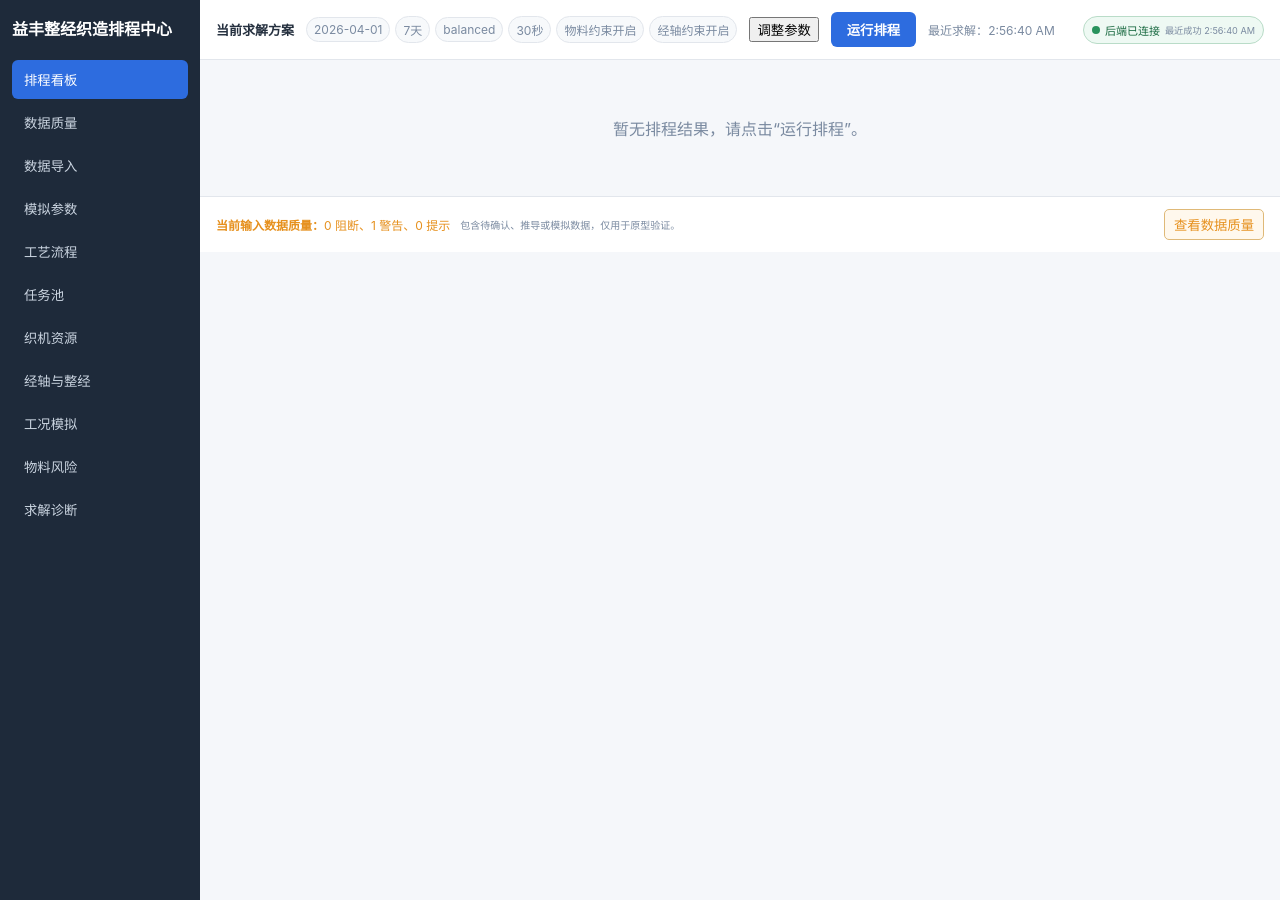
Test: App › 接口错误不展示假结果
Click the button "运行排程" at (873, 30), box [831,12,916,47]
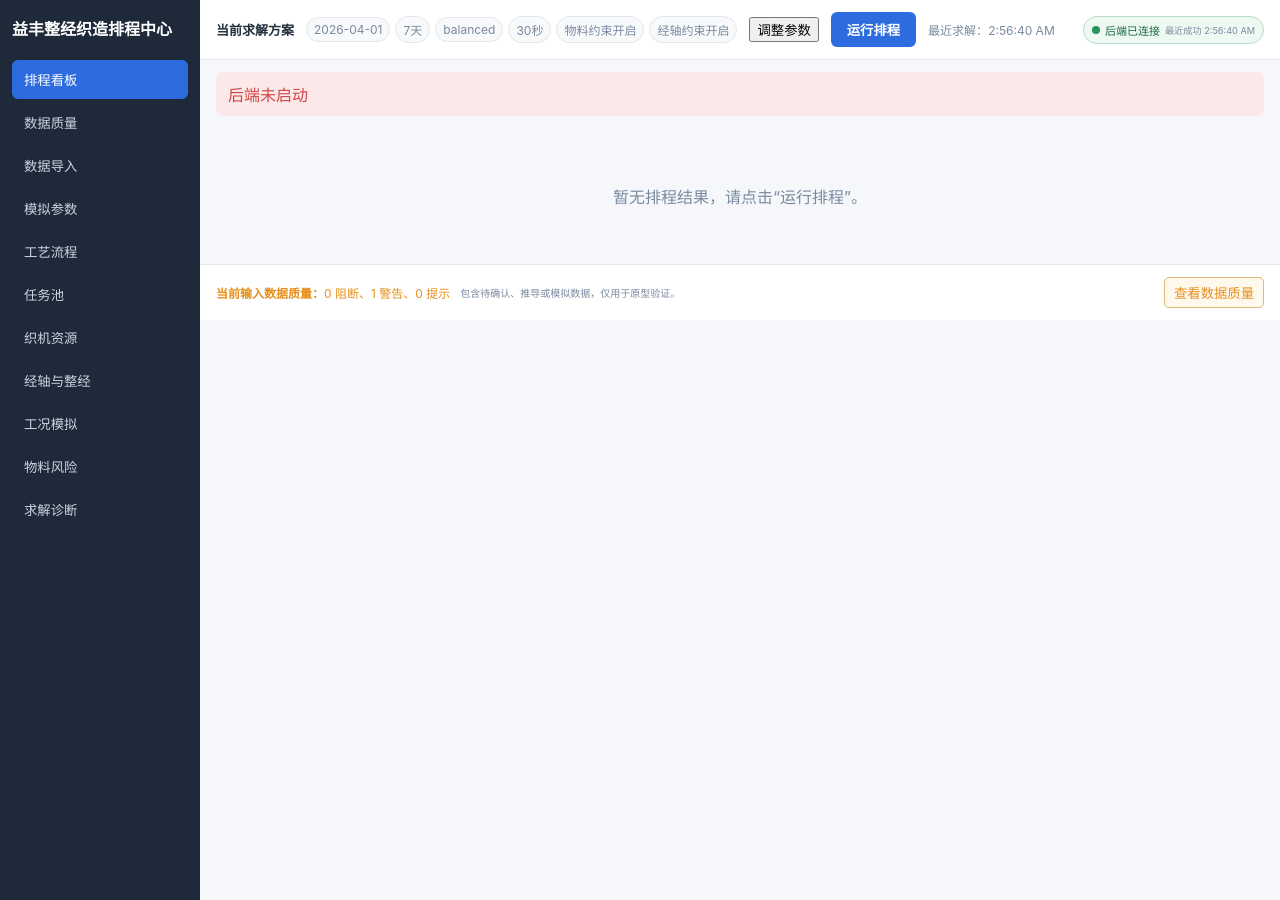
Result: the text "后端未启动" is shown at [216,72,1264,116]
